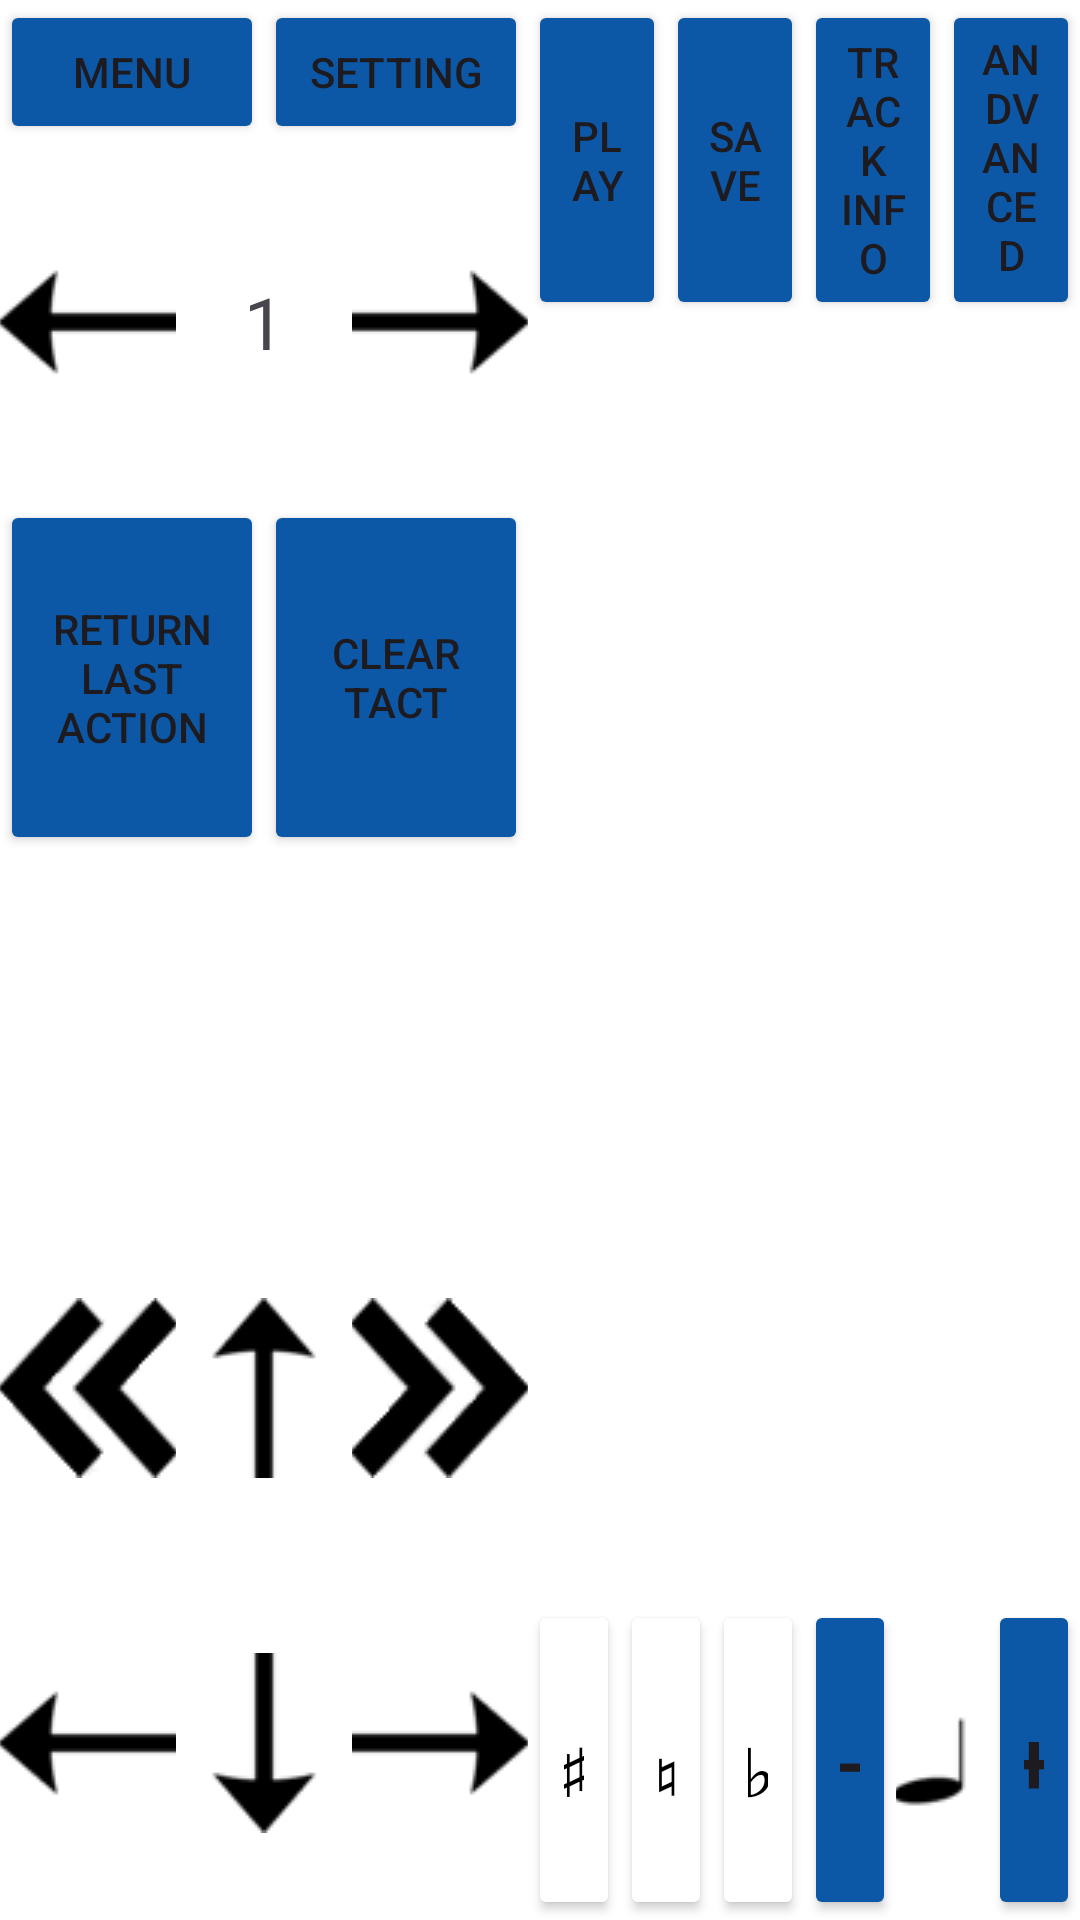

Icon click points for this 1080px×1920px phone screenshot, format point (x, y):
downarrow: point (264, 1743)
leftarrow: point (88, 322), point (88, 1743)
leftdoublearrow: point (88, 1388)
rightarrow: point (440, 322), point (440, 1743)
rightdoublearrow: point (440, 1388)
uparrow: point (264, 1388)
